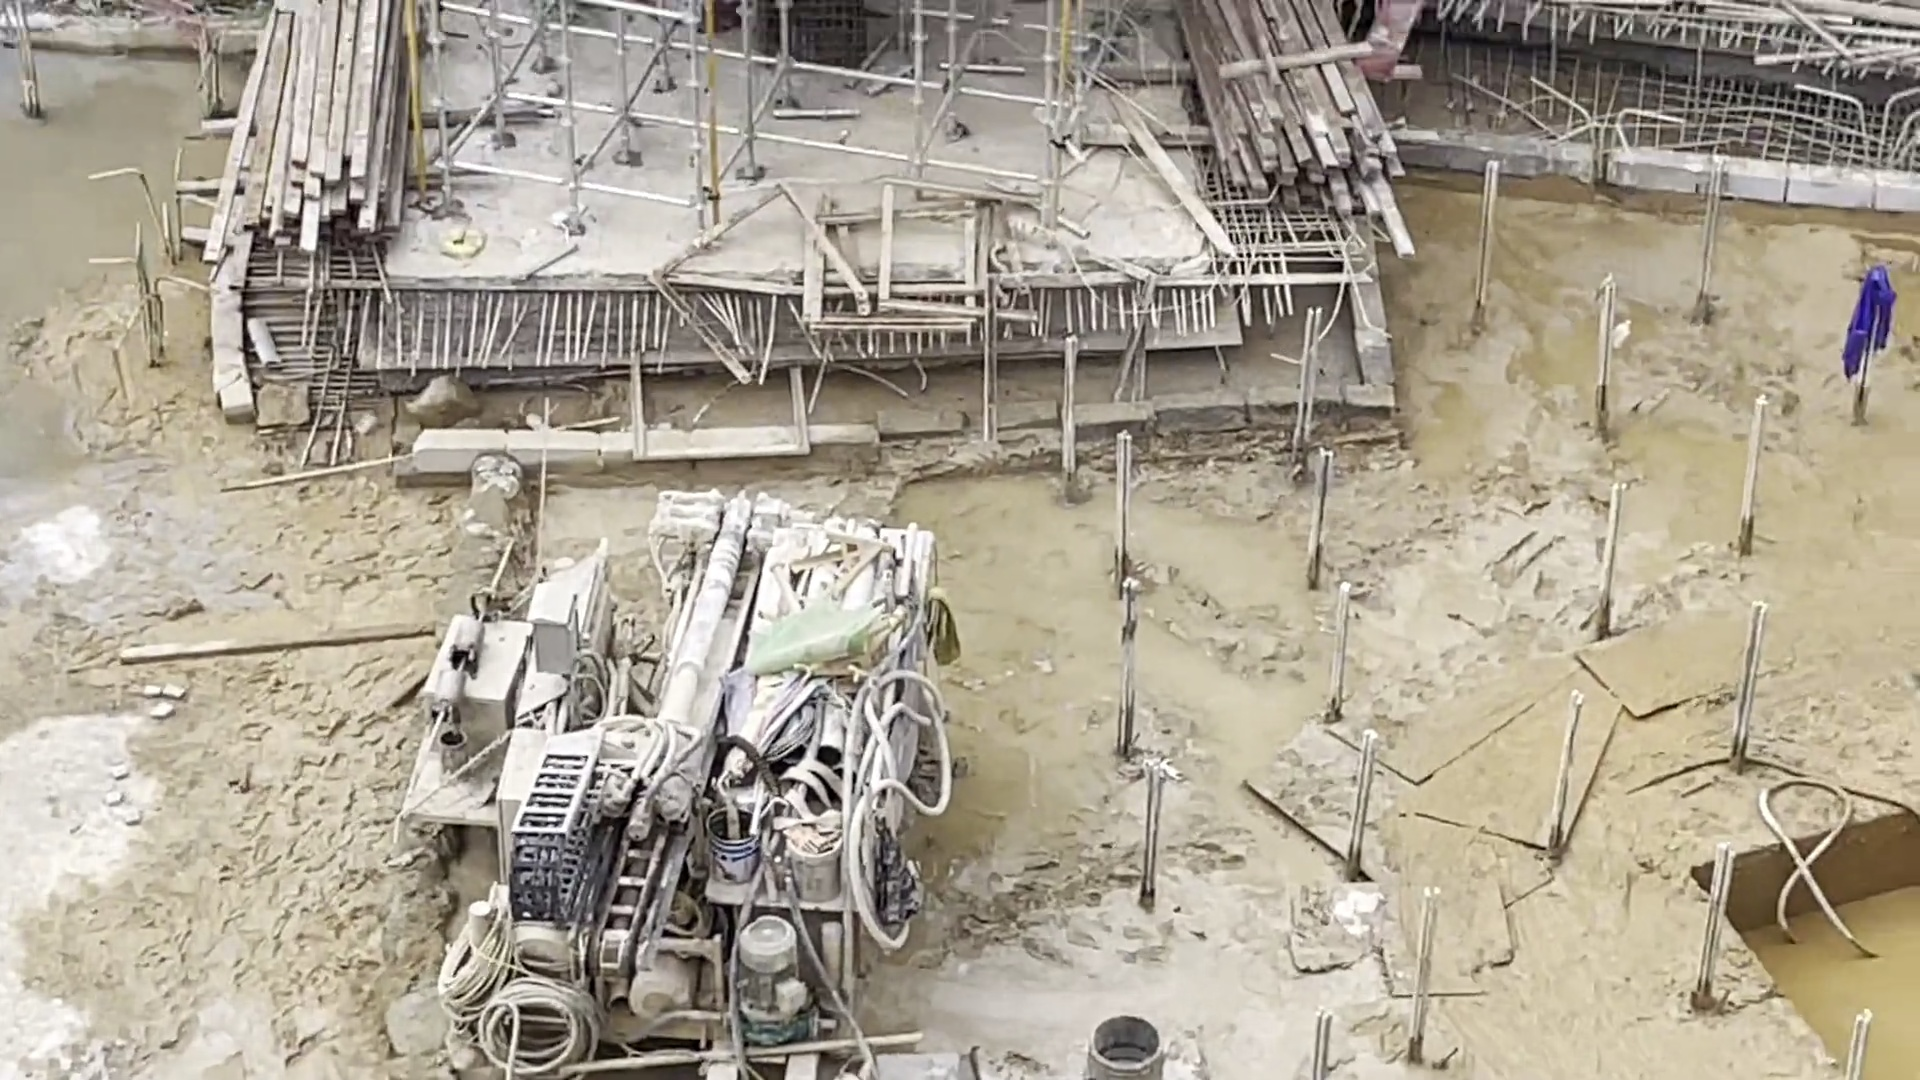wood: (1178, 1, 1420, 256), (208, 1, 429, 262)
